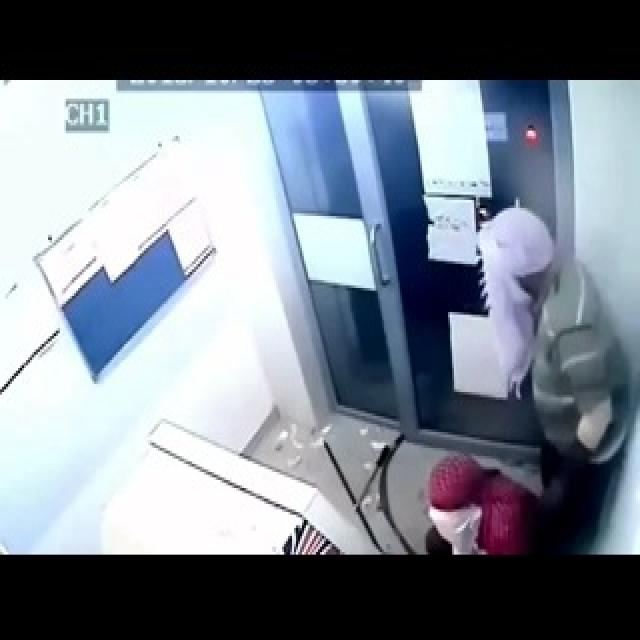thief: (414, 244, 625, 549)
